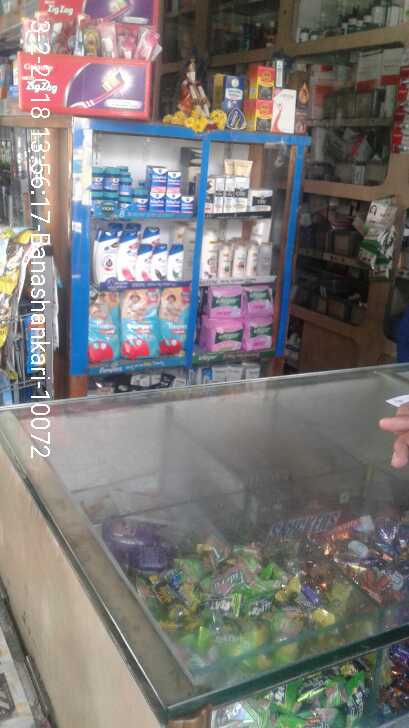beauty: (94, 227, 118, 286), (119, 228, 137, 283), (150, 242, 168, 281), (167, 242, 183, 280), (136, 243, 152, 281), (219, 243, 234, 277), (234, 177, 249, 211), (249, 189, 272, 211), (246, 239, 259, 276), (260, 242, 272, 276), (234, 239, 245, 276), (224, 177, 234, 212), (215, 178, 223, 211), (206, 179, 214, 211)
pharmacy: (158, 288, 197, 358), (120, 292, 157, 360), (87, 292, 118, 368), (201, 315, 247, 353), (206, 283, 245, 317), (243, 317, 274, 349), (244, 286, 275, 316), (146, 167, 167, 193), (165, 171, 183, 196), (133, 186, 149, 214), (103, 167, 119, 193), (148, 192, 166, 215), (180, 193, 195, 215), (164, 196, 181, 211)
